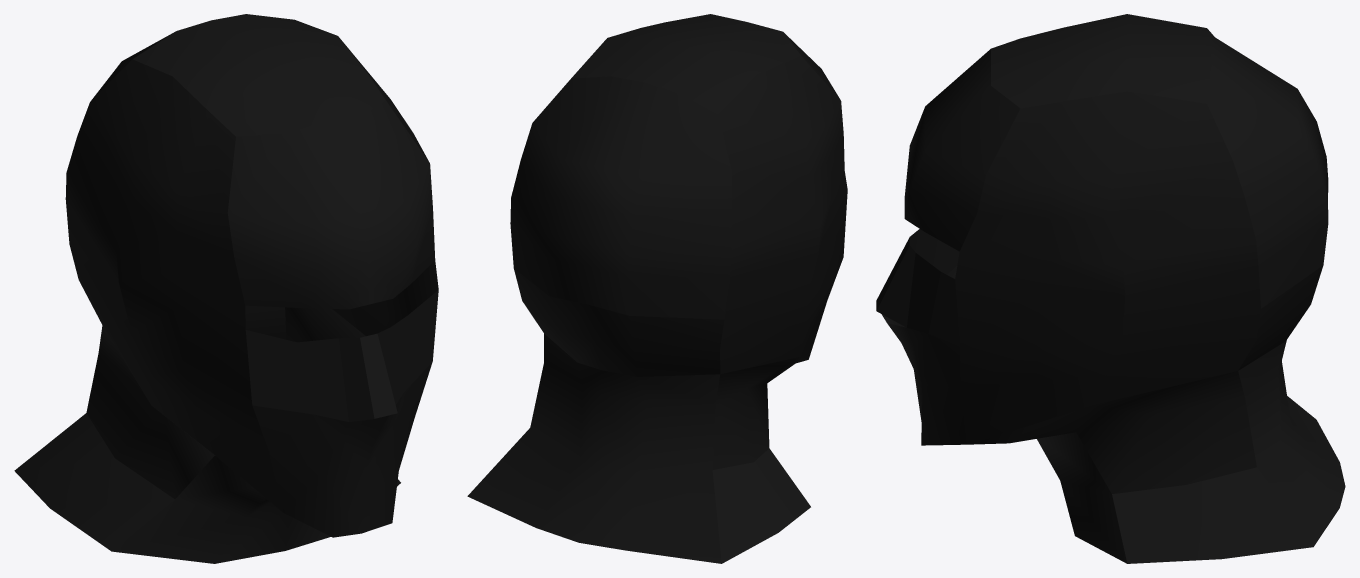
The model's file is ninjaScarf.fbx.
3 views of the same model, side by side, from view 1: azimuth 30°, elevation 25°; view 2: azimuth 150°, elevation 25°; view 3: azimuth 270°, elevation 25° (orthographic). The views are drawn at different scales.
Visible parts, largest first — view 1: ninjaHead; view 2: ninjaHead; view 3: ninjaHead.
Boxes of the visible parts, box(x1,y1,x2,y2) form: ninjaHead: box(14, 14, 438, 563); ninjaHead: box(467, 14, 847, 563); ninjaHead: box(876, 14, 1345, 563).
Size of the model in its own units: 18.83 by 28.12 by 25.73.
1 material, 1 textured.
